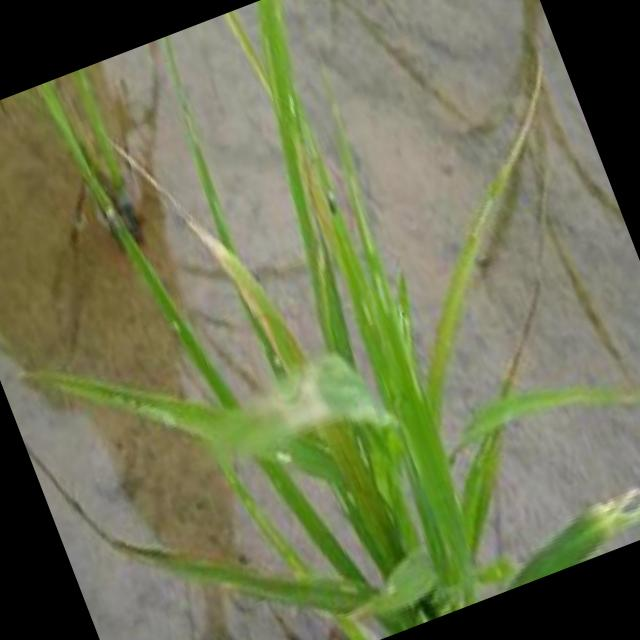rice-bug: (317, 183, 345, 219)
